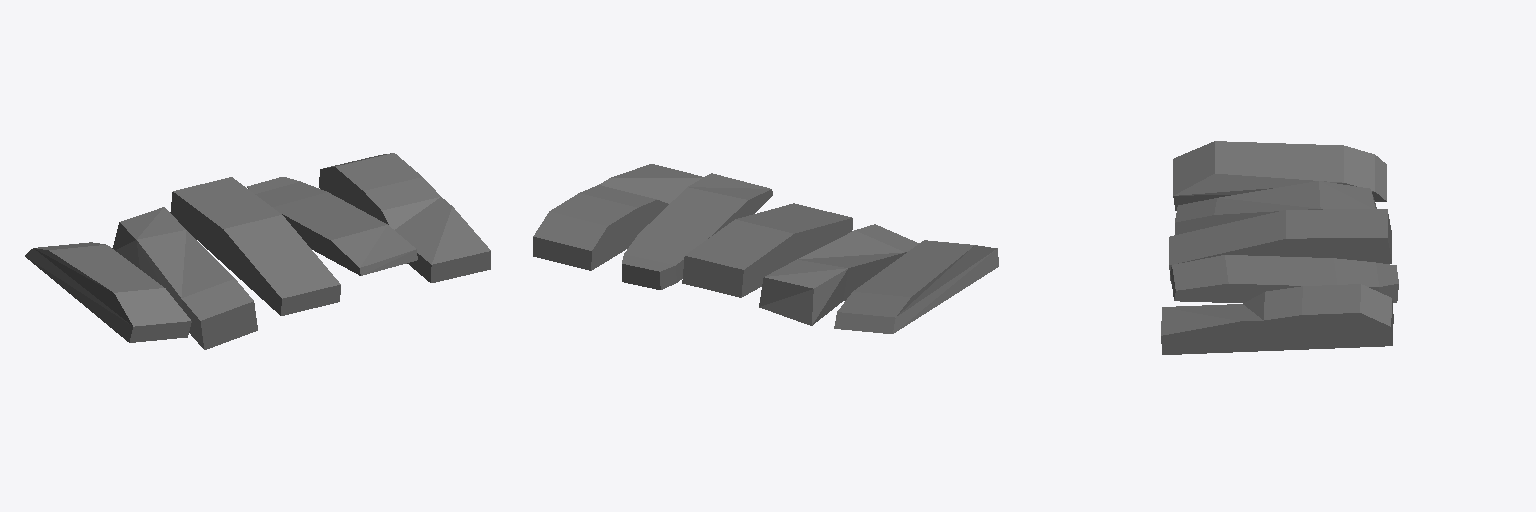
The model's file is road0.obj.
3 views of the same model, side by side, from view 1: azimuth 30°, elevation 25°; view 2: azimuth 150°, elevation 25°; view 3: azimuth 270°, elevation 25° (orthographic).
Parts seen in each view (by area): view 1: example_road:example_road:polySurface9; view 2: example_road:example_road:polySurface9; view 3: example_road:example_road:polySurface9.
Part boxes in pixels (x1,y1,x2,y2): example_road:example_road:polySurface9: (25,153,490,349); example_road:example_road:polySurface9: (533,164,998,333); example_road:example_road:polySurface9: (1161,141,1398,354).
Size of the model in its own units: 19.38 by 3.37 by 11.16.